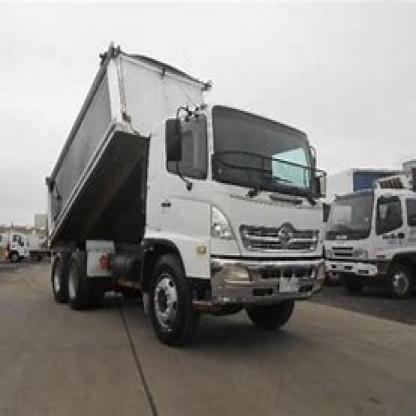dump_truck: (37, 35, 346, 357)
